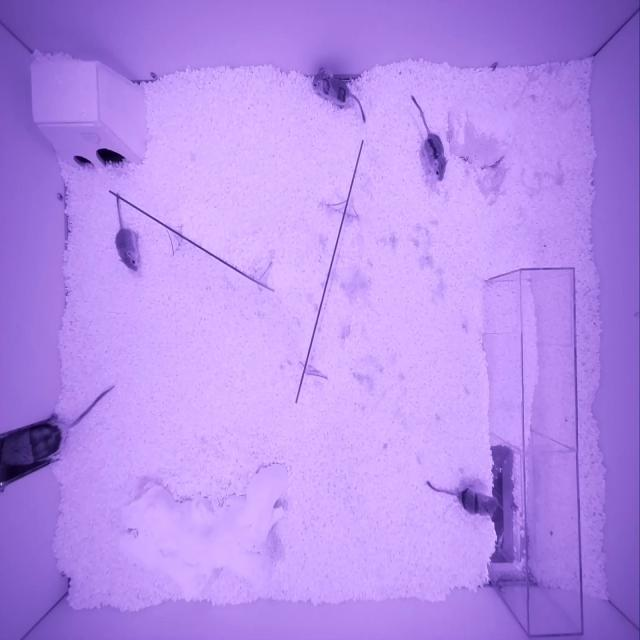adult_back: (0, 422, 69, 465)
pup_fluffy: (115, 227, 138, 272)
pup_h_stripe: (458, 487, 498, 518)
pup_spotted: (312, 68, 351, 109)
pup_v_stripe: (423, 133, 449, 183)
